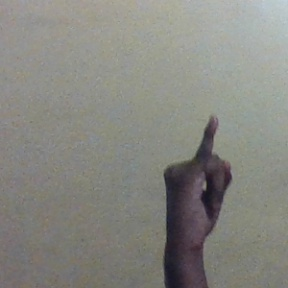I: (162, 112, 235, 239)
